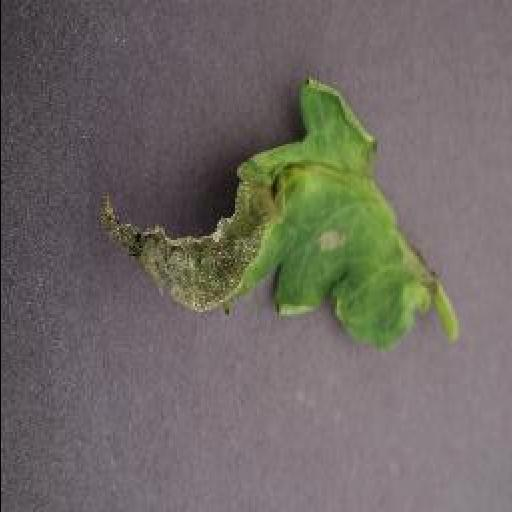disease_tomato: (100, 72, 456, 352)
